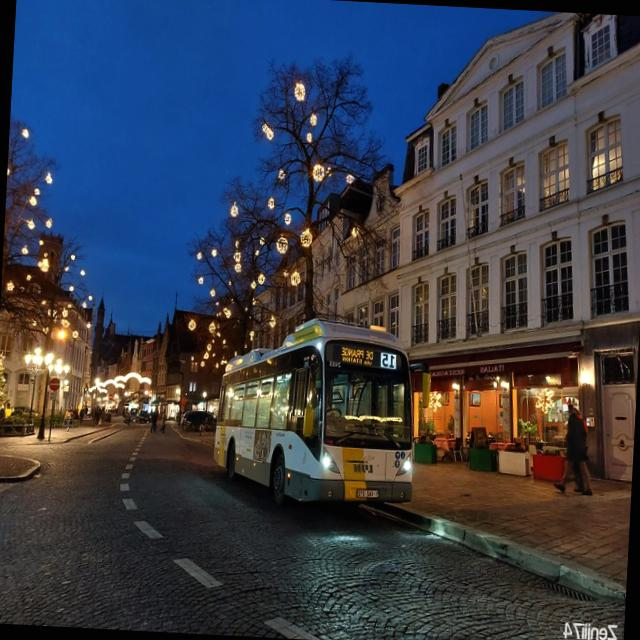bus-number: (380, 353, 397, 369)
